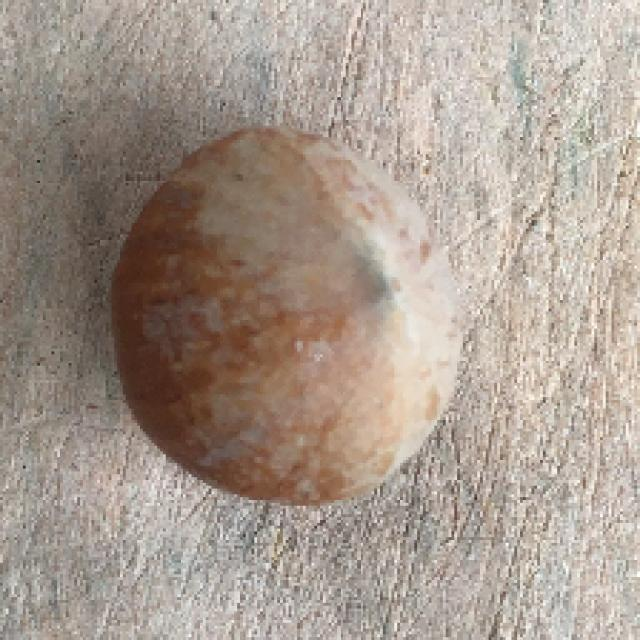QualityHazelnut: (106, 121, 473, 505)
